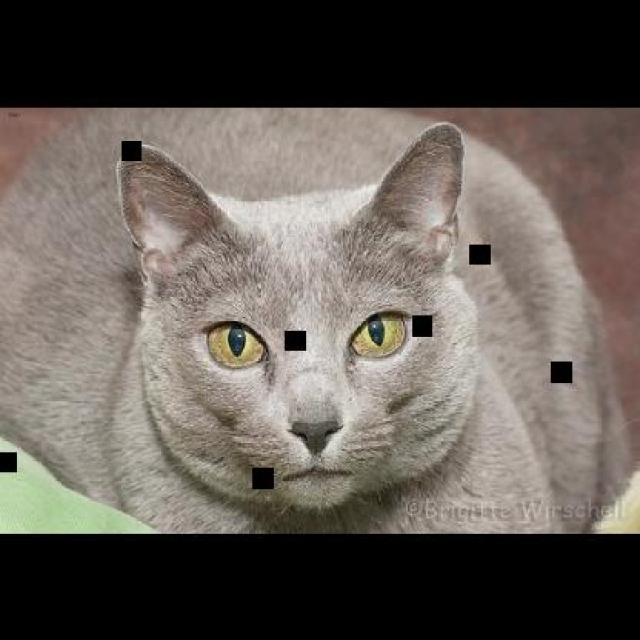unauthorized: (0, 109, 638, 533)
